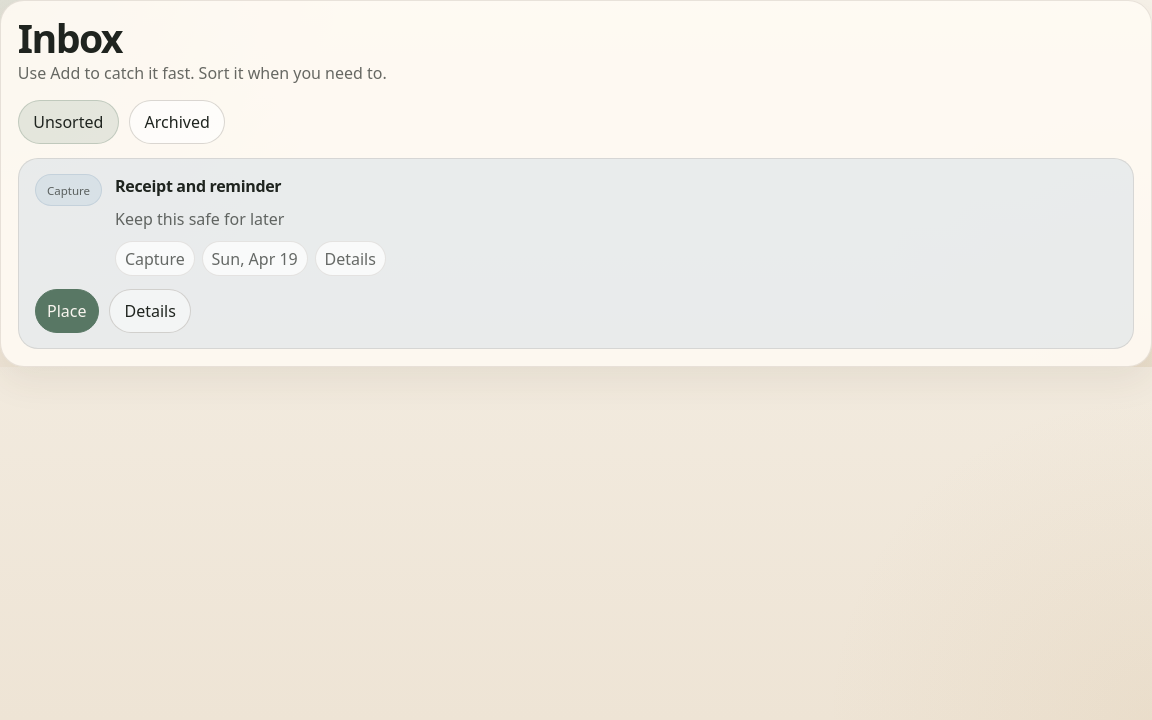
Test: InboxView › requires schedule confirmation before mutating Inbox placement
The image size is (1152, 720).
Click the button "Place" at (67, 311), box [35,289,99,333]
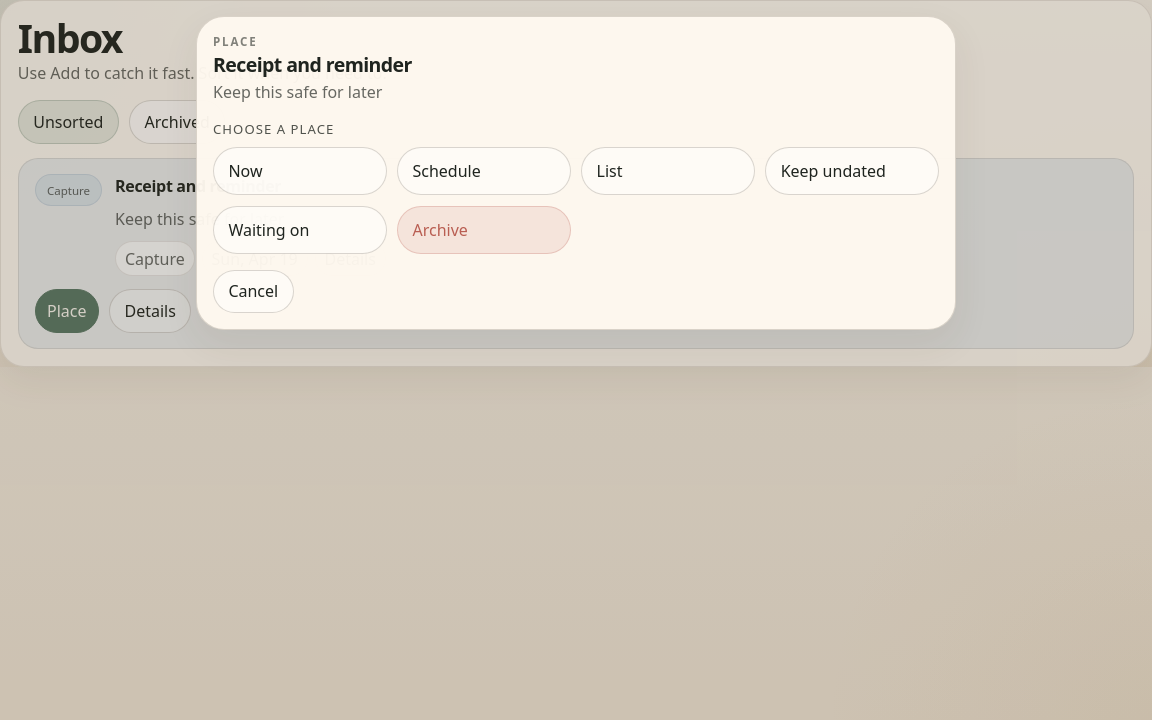
Click the button "Schedule" at (484, 171), box [397,147,571,195]
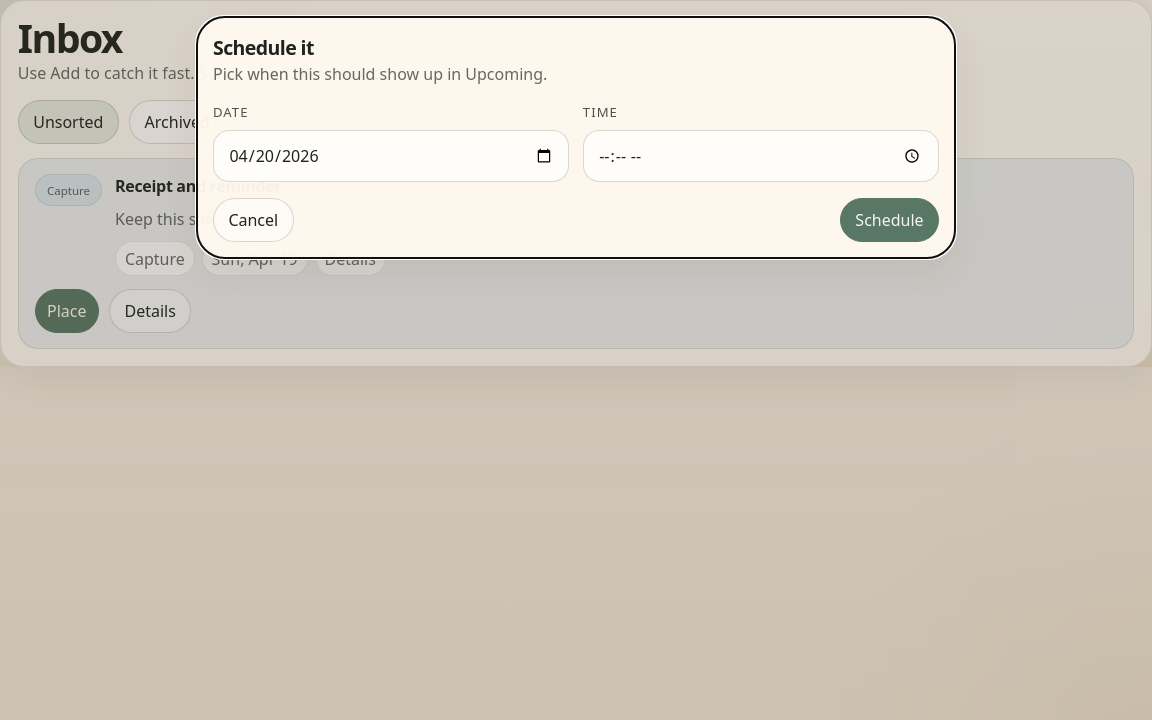
Expected: the dialog "Schedule it" is shown
